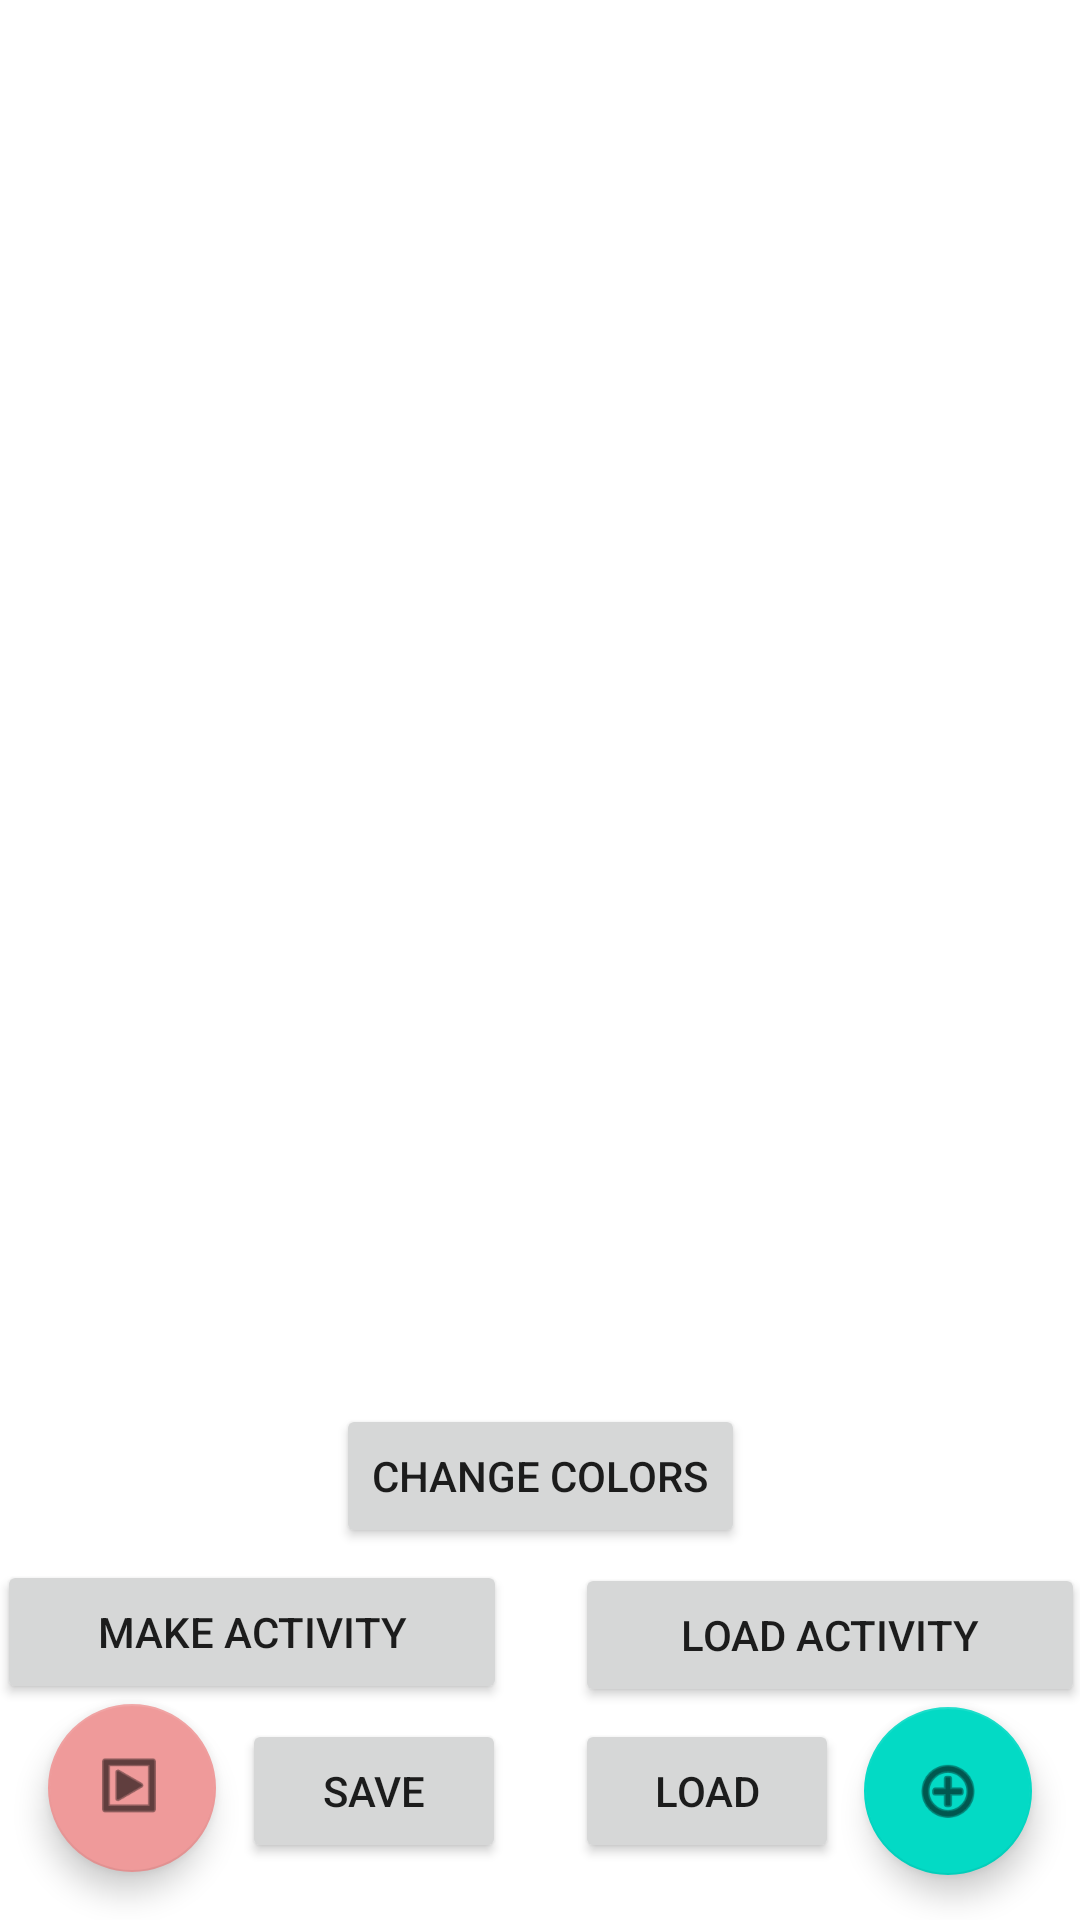

Icon click points for this 1080x1920 phone screenshot, format point (x, y):
add: point (948, 1791)
slideshow: point (132, 1788)
